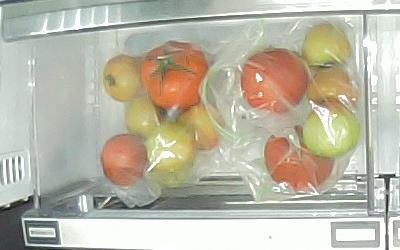tomato: (143, 40, 209, 109), (103, 54, 146, 103)
tomato_vinyl: (240, 47, 309, 114), (264, 125, 336, 188), (301, 103, 361, 157), (145, 125, 195, 185), (101, 133, 148, 186), (308, 66, 360, 113), (177, 104, 225, 152), (303, 23, 351, 69), (125, 95, 169, 138)
